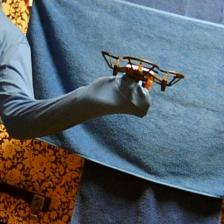drone: (100, 48, 184, 95)
